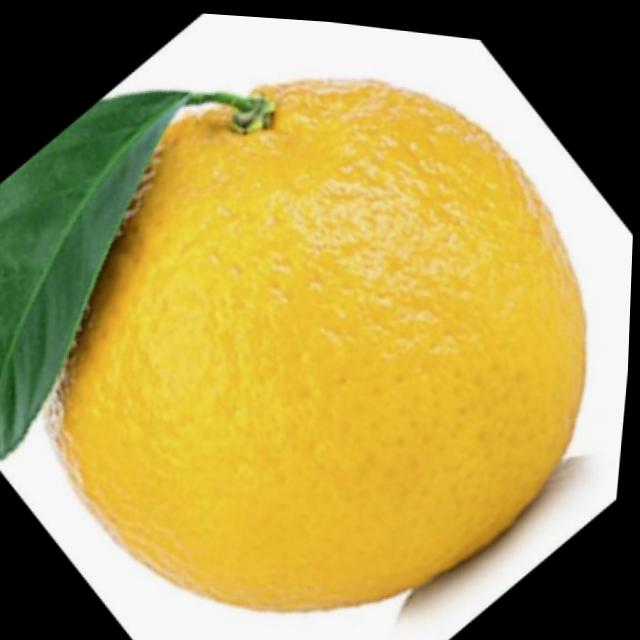Orange: (29, 39, 612, 640)
